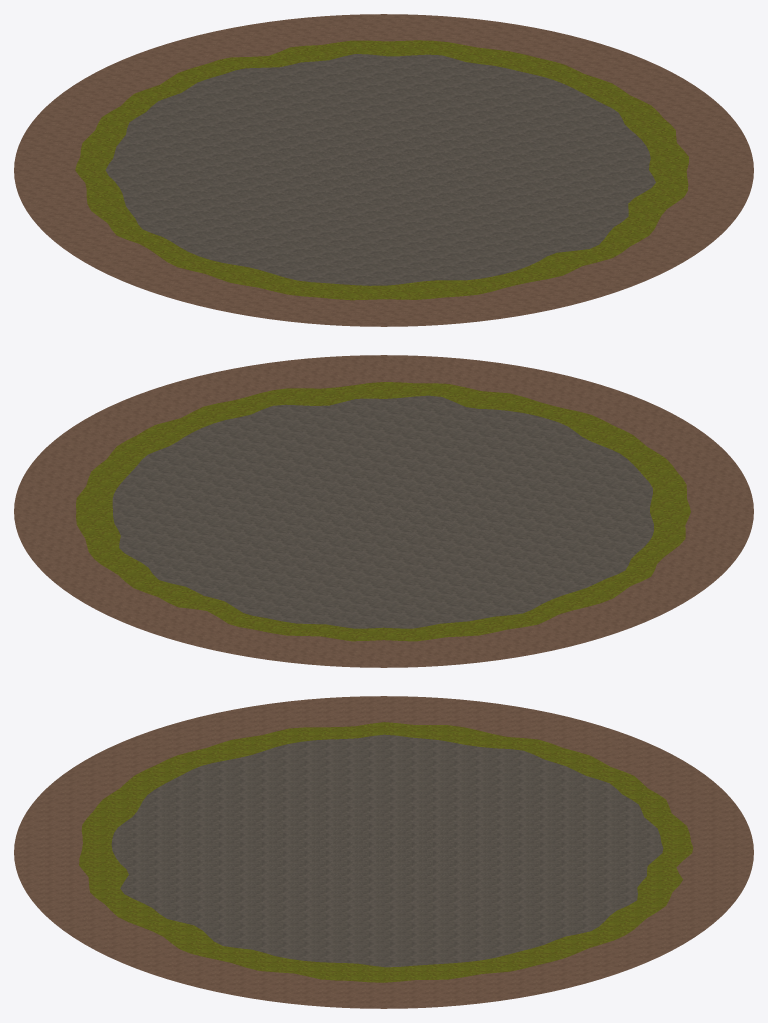
The model's file is ground.fbx.
3 renders of one model, top to bottom at view 1: azimuth 30°, elevation 25°; view 2: azimuth 150°, elevation 25°; view 3: azimuth 270°, elevation 25°, orthographic.
Parts seen in each view (by area): view 1: ground; view 2: ground; view 3: ground.
Boxes of the visible parts, bbox=[...] form: ground: bbox=[14, 14, 753, 326]; ground: bbox=[14, 355, 753, 667]; ground: bbox=[14, 696, 753, 1008].
Size of the model in its own units: 301 by 1.21e-05 by 301.
